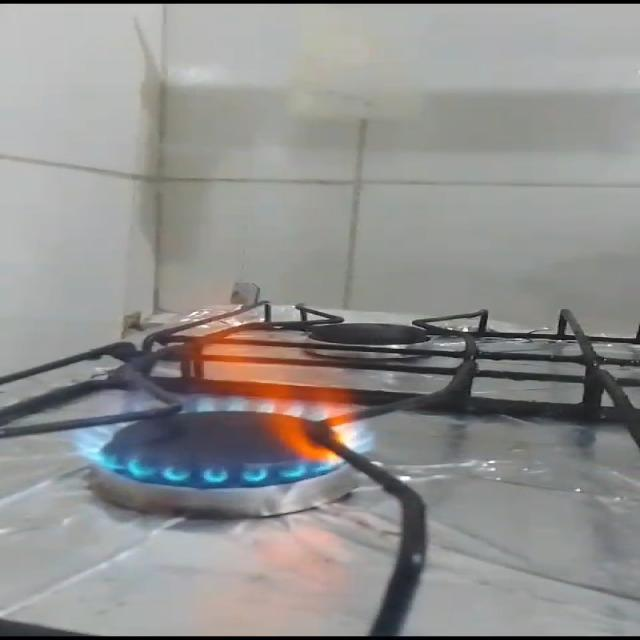fogo-ypXI: (57, 292, 383, 487)
